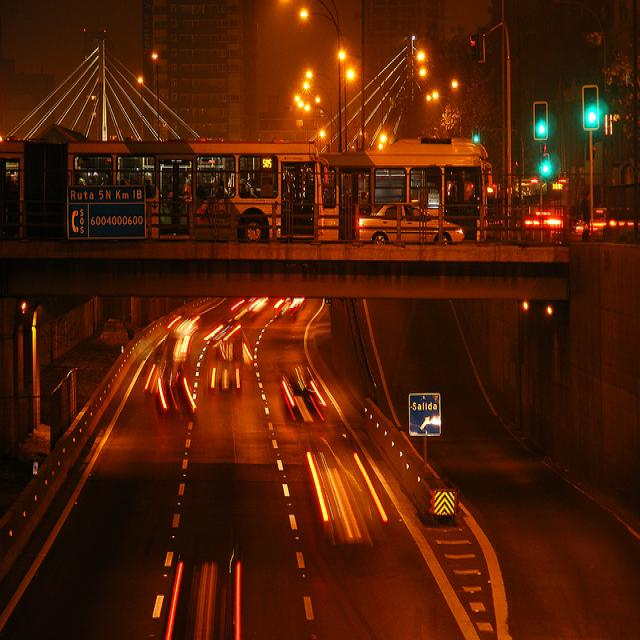Bus: (66, 122, 352, 281), (325, 136, 501, 257)
car: (310, 442, 407, 566), (361, 187, 464, 260), (214, 352, 292, 425), (277, 359, 350, 435), (150, 367, 214, 430), (517, 202, 580, 248), (588, 198, 640, 248)
